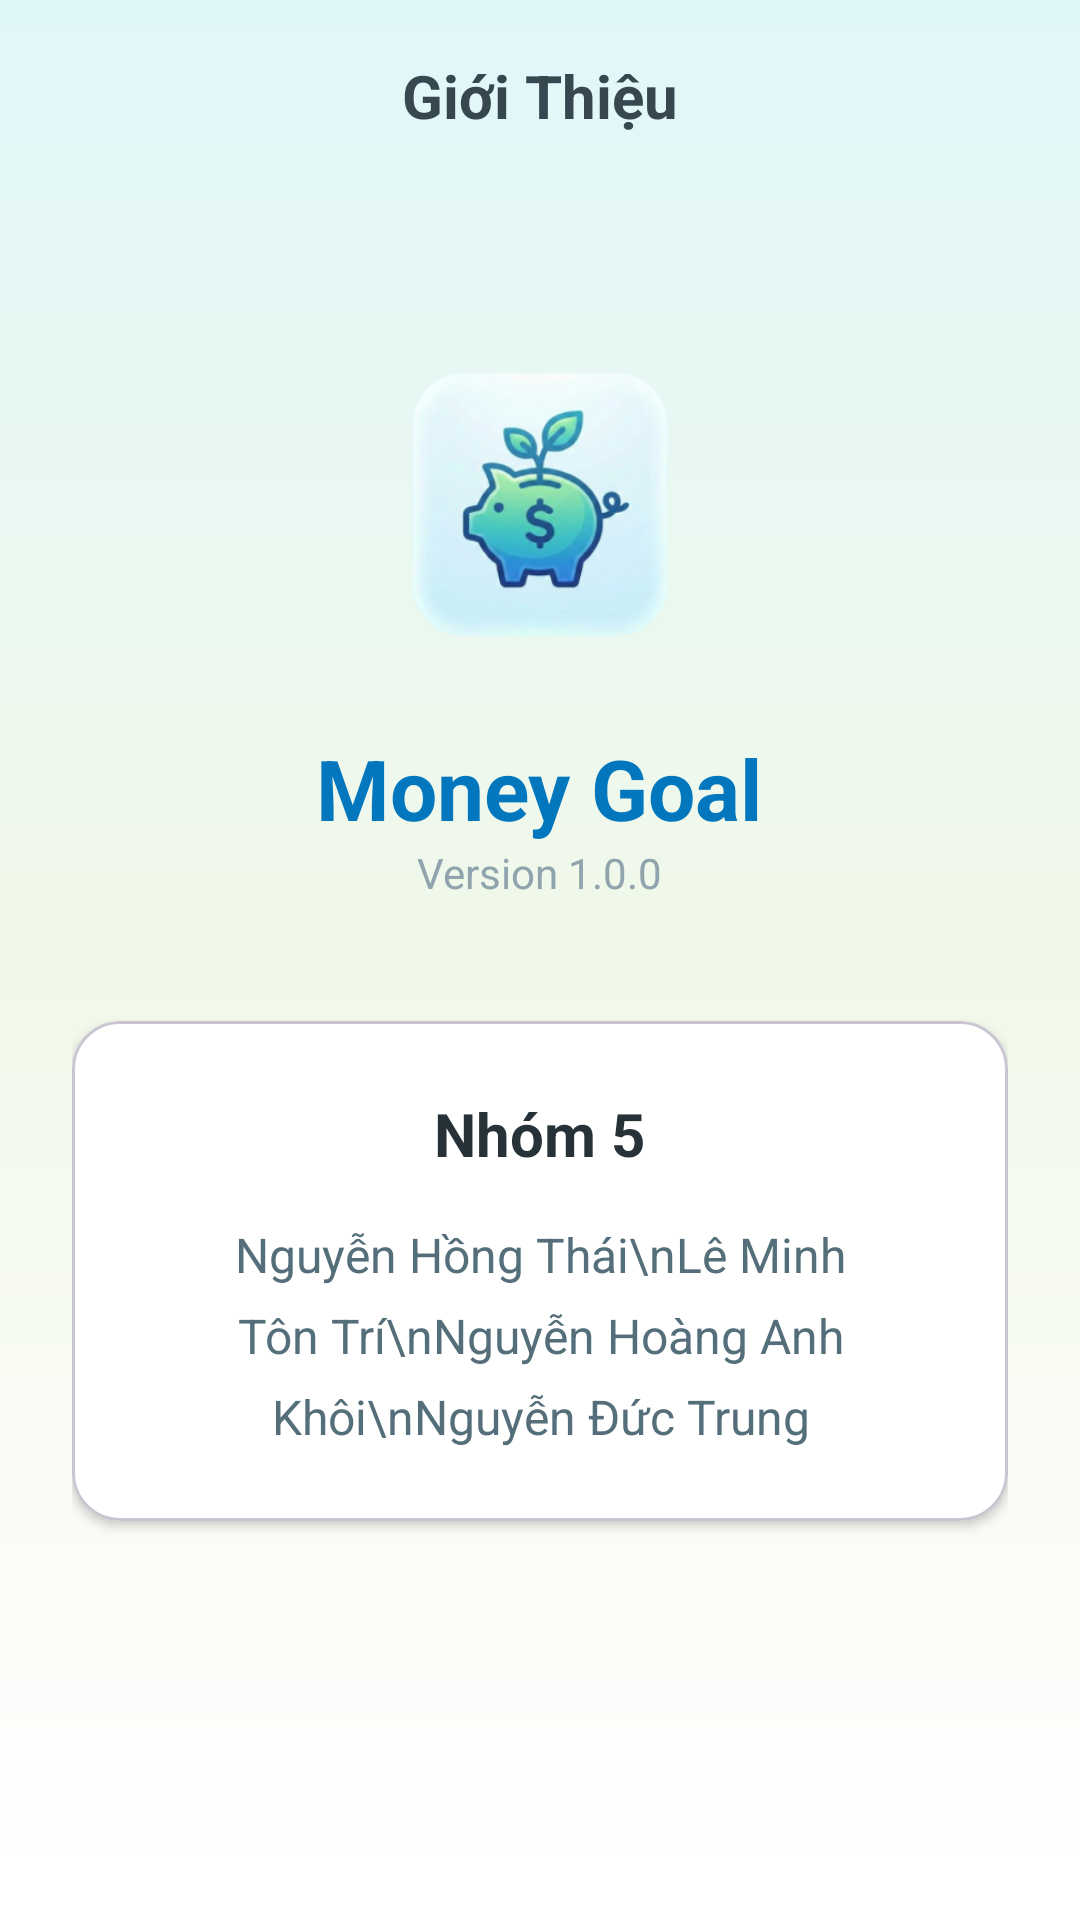

Locate icon controls on the screen. Image size 1080px×1920px, boxes as (x1, y1, x2, y2).
app: (413, 373, 667, 636)
